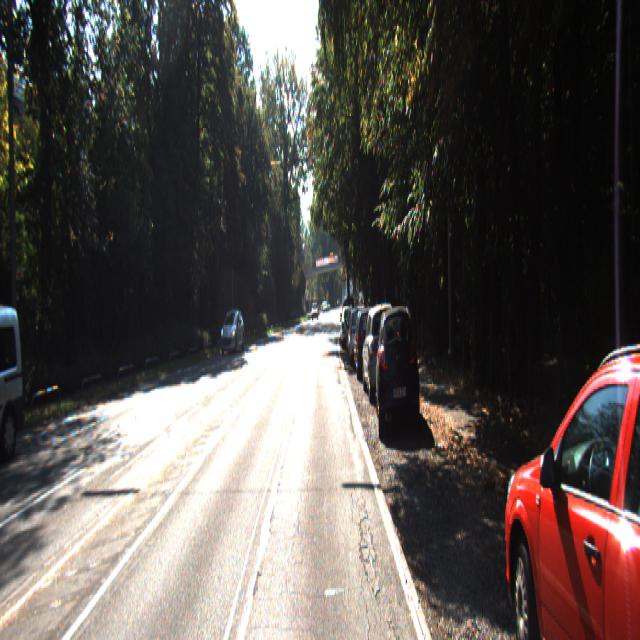Car: (494, 308, 640, 638), (374, 298, 421, 435), (0, 302, 32, 469), (362, 304, 402, 403), (354, 307, 381, 381), (348, 308, 372, 370), (219, 310, 245, 356), (341, 306, 356, 348)
